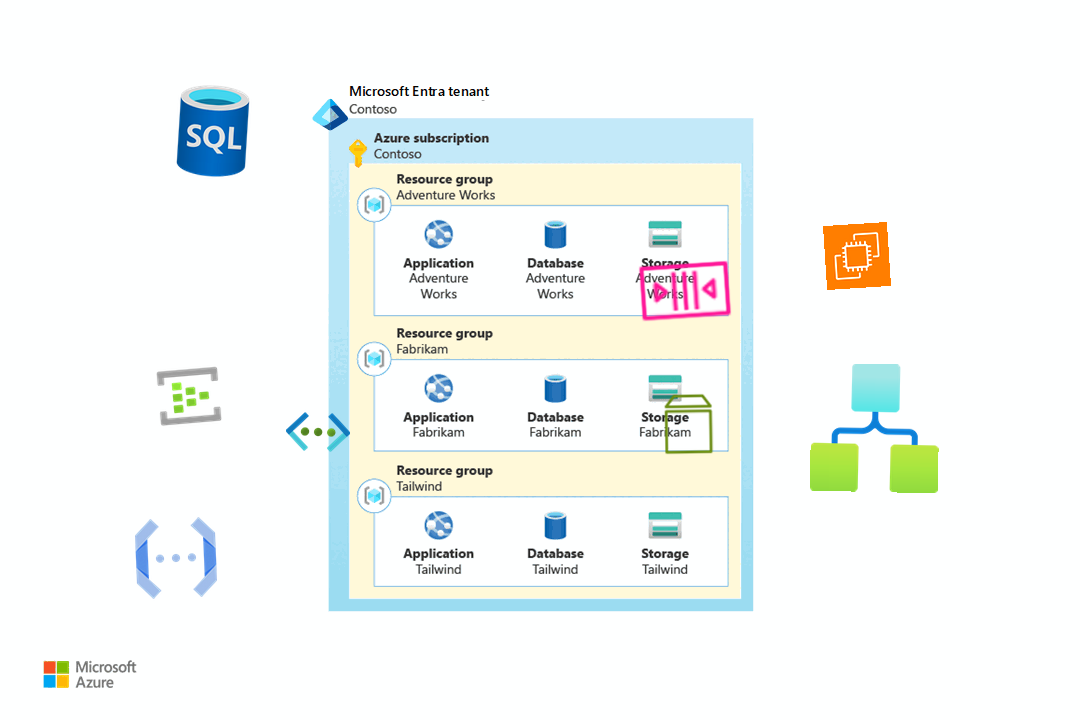aws_amazon_ec2: (822, 221, 892, 291)
aws_elastic_block_store_volume: (656, 391, 722, 457)
aws_simple_queue_service_queue: (633, 238, 737, 342)
azure_event_hubs: (154, 361, 224, 431)
azure_logic_apps: (809, 362, 941, 494)
azure_sql_database: (162, 80, 264, 182)
azure_virtual_networks: (284, 398, 352, 466)
gcp_cloud_functions: (126, 508, 226, 608)
